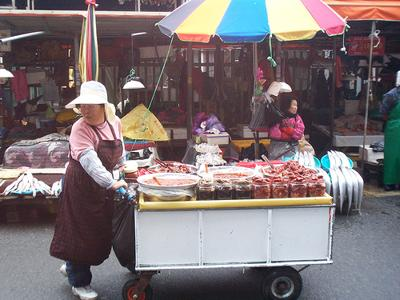person: (46, 81, 130, 300)
